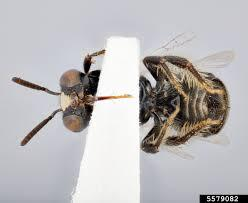Braunsapis: (10, 26, 238, 180)
